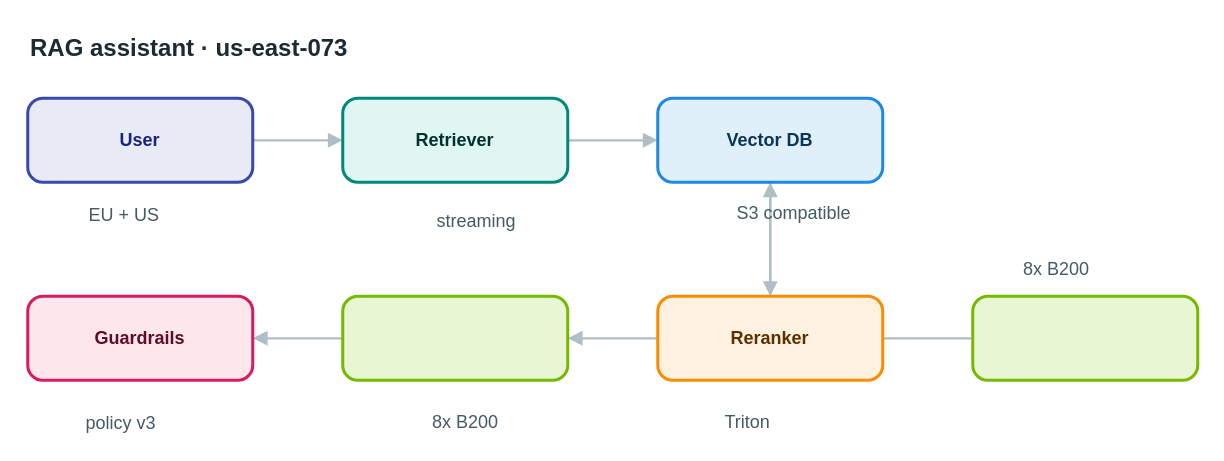
This 1224x461 diagram has some shape labels left out. Here are the shapes that lost their labels. From the top down, the box of each, then its label:
(340, 294, 568, 381): Nemotron
(970, 294, 1198, 381): Embedder
